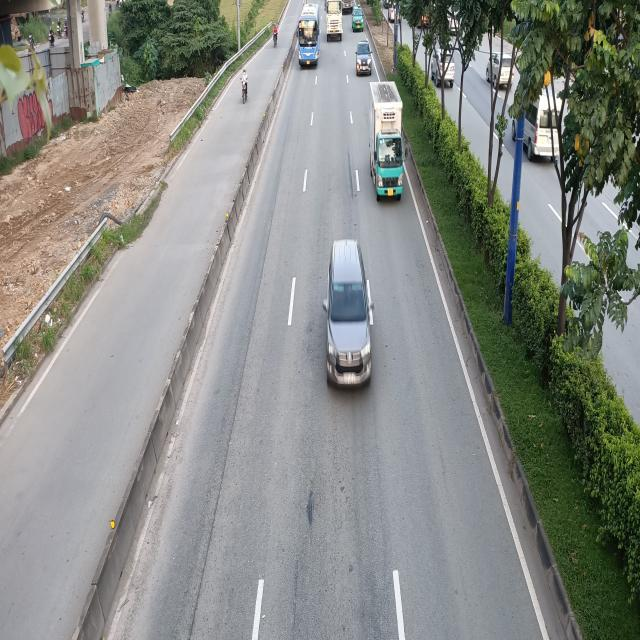car: (326, 238, 375, 388), (355, 40, 373, 76), (352, 4, 364, 30)
coach: (297, 2, 321, 68)
truck: (367, 83, 406, 203), (326, 0, 343, 41)
